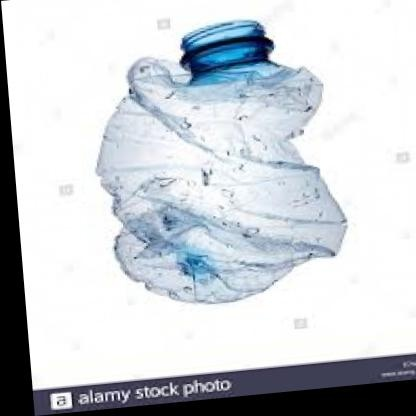trash: (97, 20, 345, 302)
